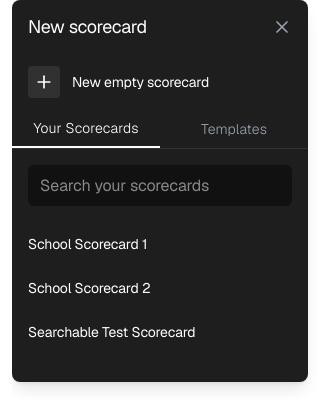
Test: ScorecardPickerDialog Component › should display standard templates when "Templates" tab is active
// Click on "Templates" tab
Click the button "Templates". click: {"x": 234, "y": 129}
box: [160,110,308,148]
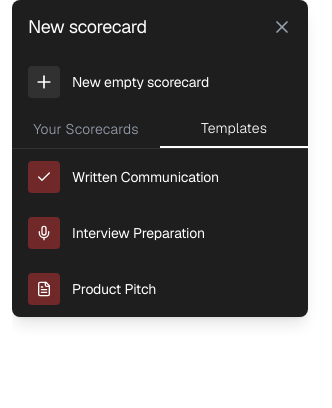
Check: the text "Written Communication" is shown, box [72,167,219,187]
Check: the text "Interview Preparation" is shown, box [72,223,205,243]
Check: the text "Product Pitch" is shown, box [72,279,156,299]
